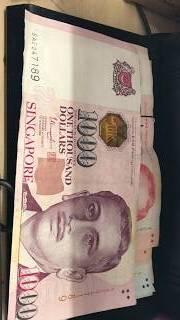1000SingaporeDollar: (16, 29, 136, 320)
